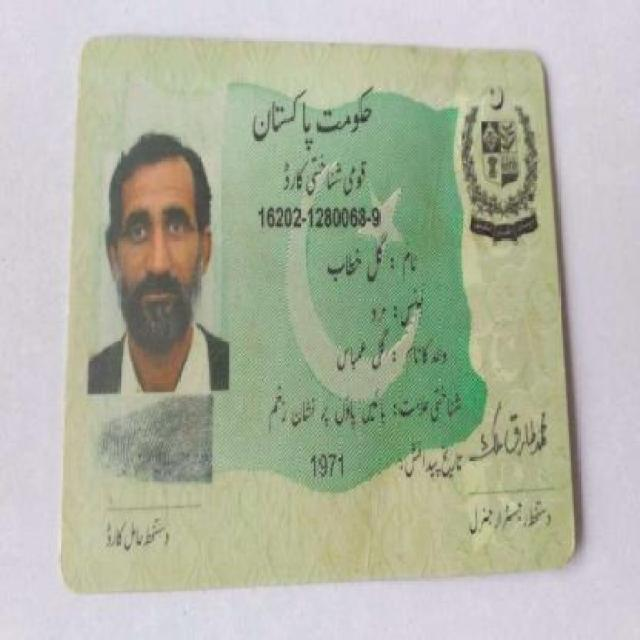Front: (60, 31, 582, 582)
